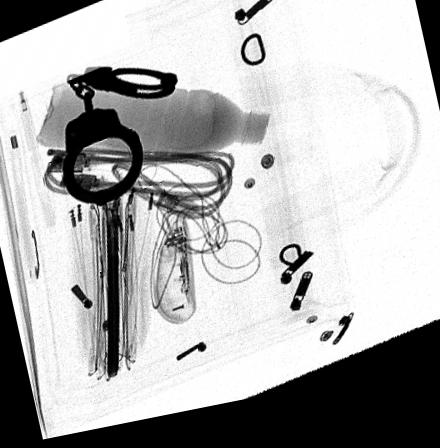HandCuffs: (61, 70, 179, 211)
